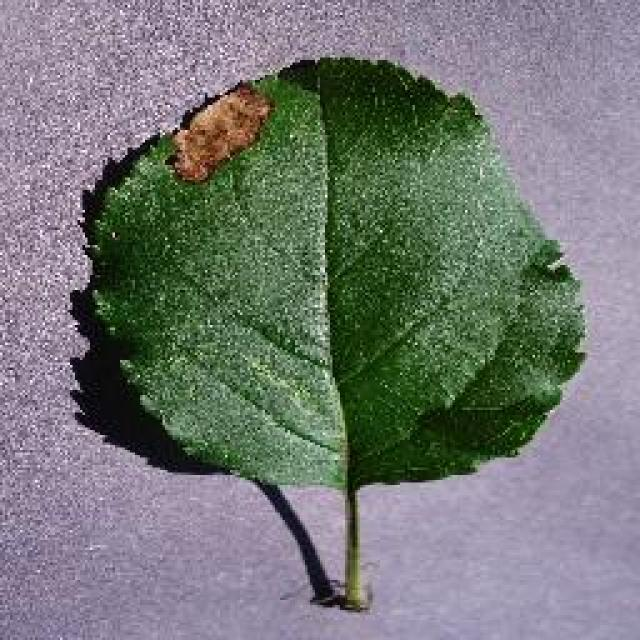Black_rot: (78, 52, 588, 610)
